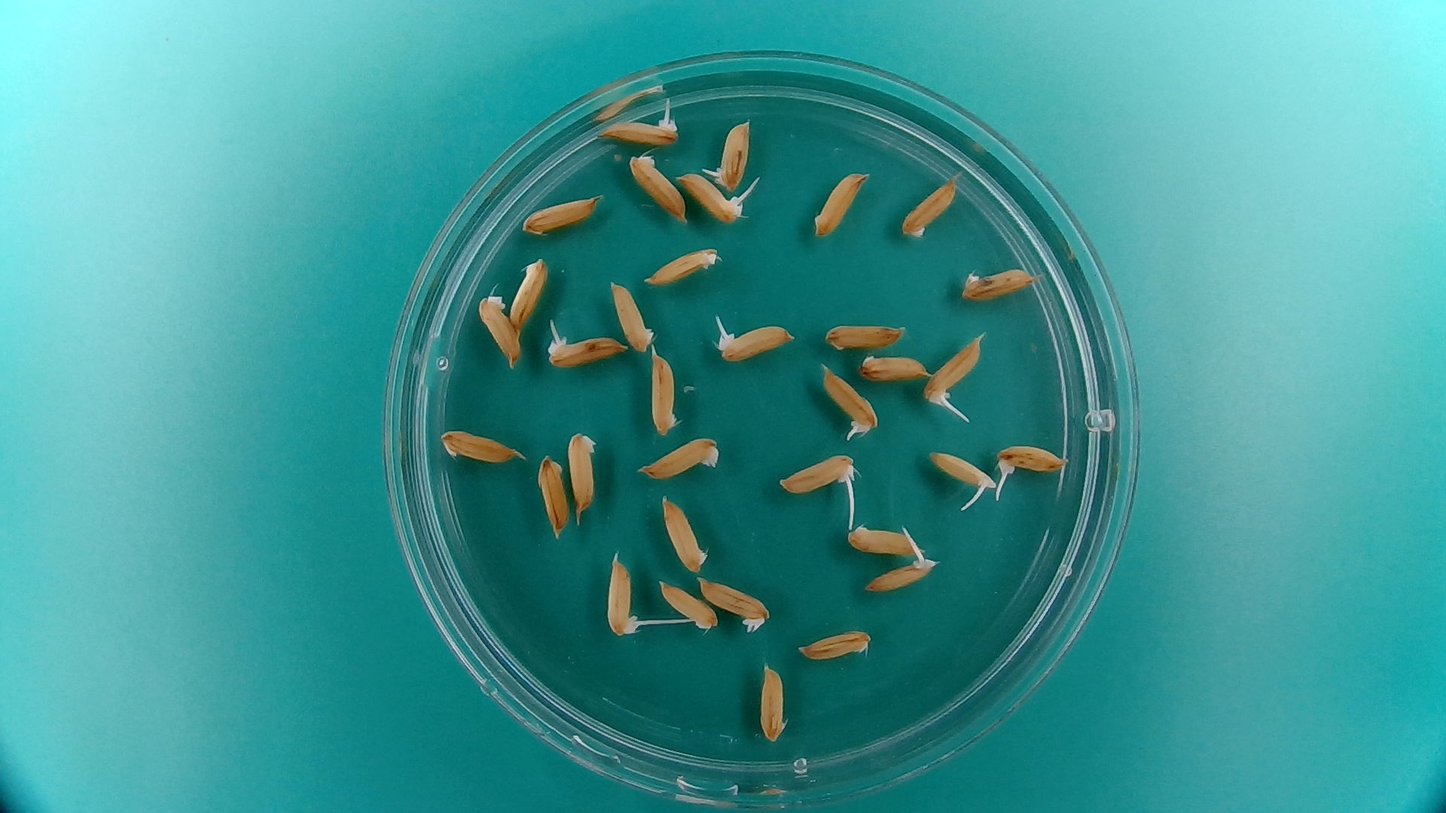no: (626, 150, 689, 224), (811, 166, 871, 241), (634, 432, 724, 482), (695, 574, 772, 631), (899, 173, 962, 240), (639, 242, 725, 289), (518, 191, 603, 237), (475, 288, 523, 369), (660, 498, 710, 575), (608, 278, 657, 356), (435, 425, 524, 467), (506, 252, 551, 333), (956, 262, 1040, 303), (534, 452, 572, 542), (843, 519, 926, 559), (657, 580, 719, 632), (820, 318, 909, 354), (795, 626, 877, 665), (565, 427, 600, 517), (648, 347, 682, 438), (757, 661, 792, 745), (855, 350, 934, 384)
yes: (923, 338, 987, 407), (821, 370, 879, 440), (602, 548, 645, 638), (677, 172, 747, 226), (702, 120, 752, 193), (778, 453, 859, 498), (923, 446, 994, 494), (992, 440, 1072, 482), (862, 553, 941, 595), (714, 327, 796, 364), (545, 335, 627, 370), (594, 115, 678, 146)
